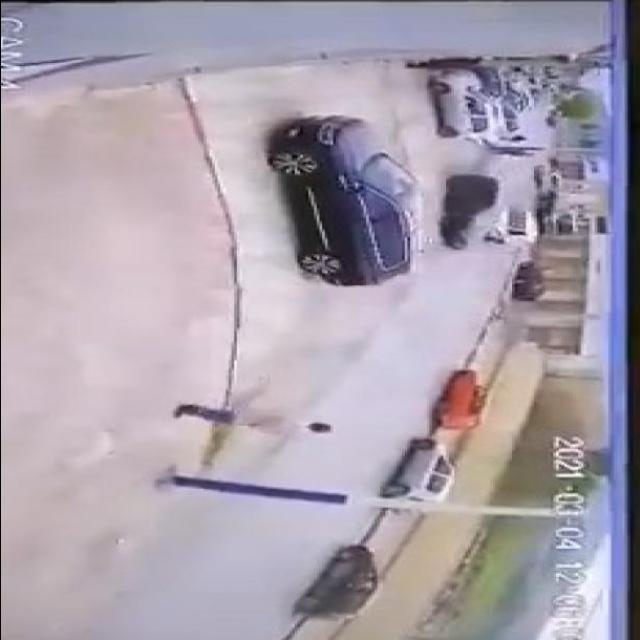accident: (437, 168, 543, 262)
non_accident: (385, 364, 511, 512), (419, 63, 519, 147)
